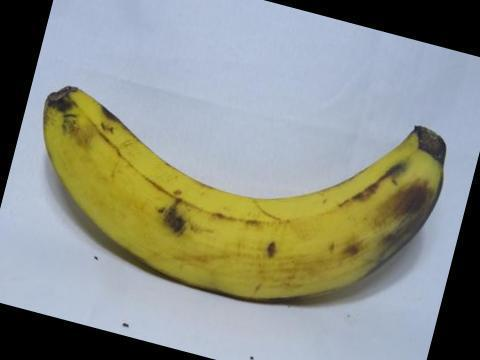ripe: (29, 72, 458, 310)
